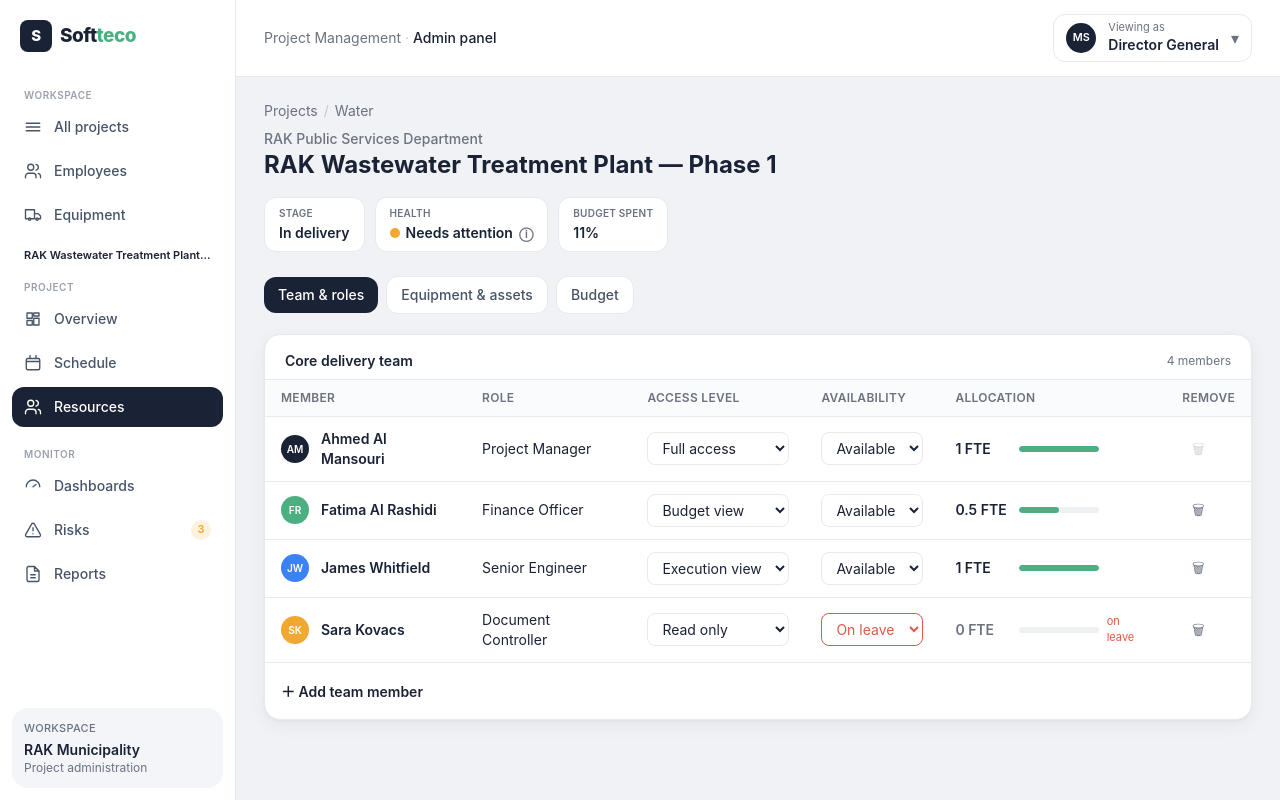
project pages render without crashing › Resources page has Team / Equipment / Budget tabs
The image size is (1280, 800).
Expected: the button "Team & roles" is shown, [264,277,378,313]
Expected: the button "Equipment & assets" is shown, [386,276,548,314]
What coordinates should you click on to do the following:
click the button "Budget"
I would click on:
 (595, 295)
Its box is [556,276,634,314].
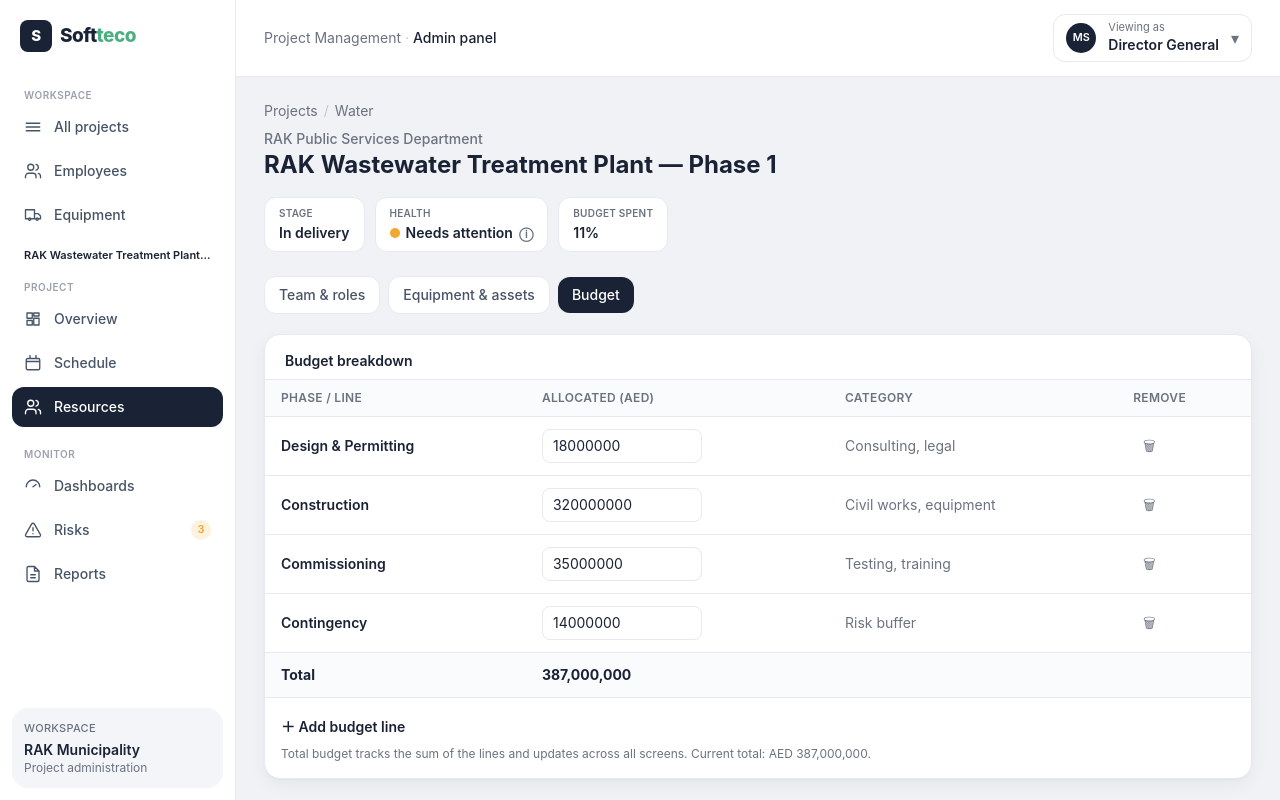
Now the text "Budget breakdown" is shown, box [285,352,412,369]
